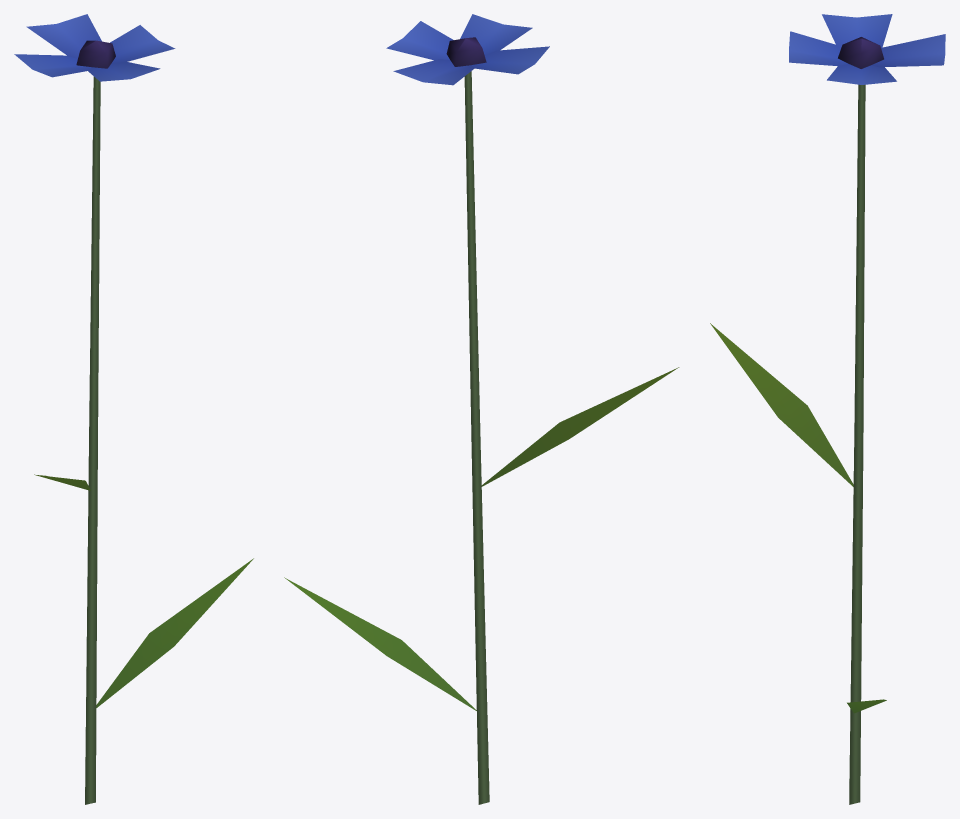
File: flower-cornflower-a.lod2.glb
3 views of the same model, side by side, from view 1: azimuth 30°, elevation 25°; view 2: azimuth 150°, elevation 25°; view 3: azimuth 270°, elevation 25° (orthographic).
Visible parts, largest first — view 1: flower-cornflower-a.lod2; view 2: flower-cornflower-a.lod2; view 3: flower-cornflower-a.lod2.
Part boxes in pixels (x1,y1,x2,y2): flower-cornflower-a.lod2: (14,14,253,804); flower-cornflower-a.lod2: (284,14,679,804); flower-cornflower-a.lod2: (710,14,945,804).
Bounding box in the file's own units: 0.137 × 0.3224 × 0.0897.
